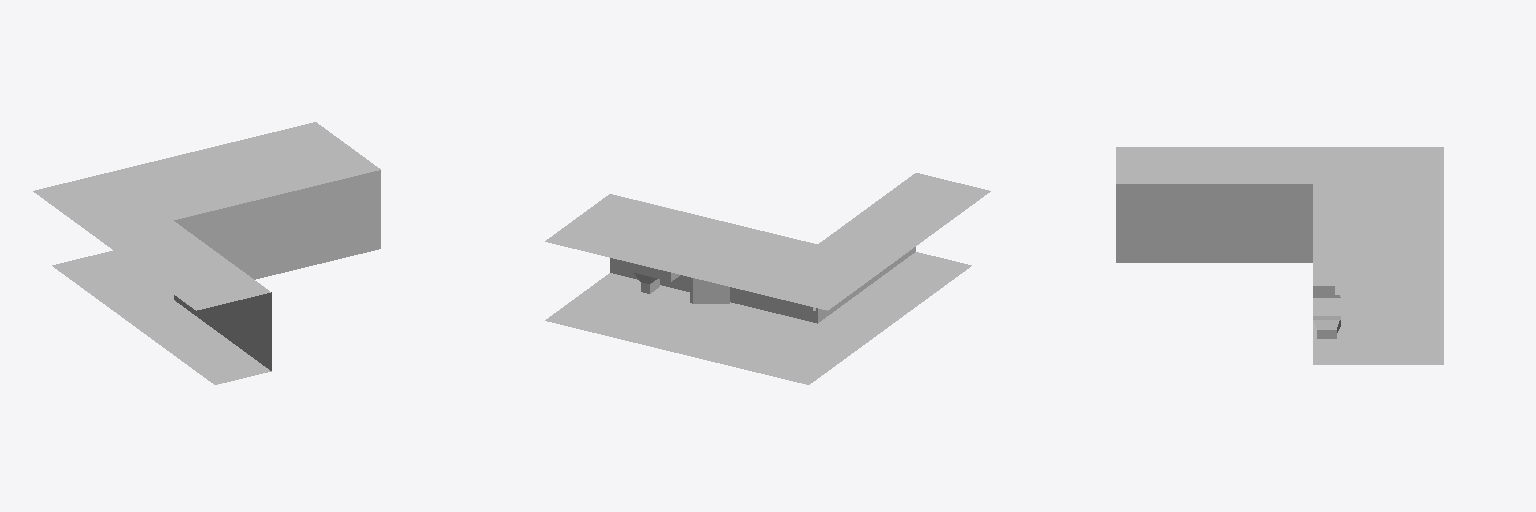
The model's file is hospital-corridor.obj.
3 renders of one model, left to right at view 1: azimuth 30°, elevation 25°; view 2: azimuth 150°, elevation 25°; view 3: azimuth 270°, elevation 25°, orthographic.
Visible parts, largest first — view 1: Cube; view 2: Cube, Cube.002, Cube.001; view 3: Cube, Cube.002.
Boxes of the visible parts, x1,y1,x2,y2 form: Cube: [33, 122, 380, 384]; Cube: [545, 173, 990, 384]; Cube.002: [615, 259, 679, 293]; Cube.001: [690, 277, 729, 303]; Cube: [1116, 147, 1443, 364]; Cube.002: [1313, 295, 1340, 338].
Bounding box in the file's own units: 15 × 4.01 × 15.